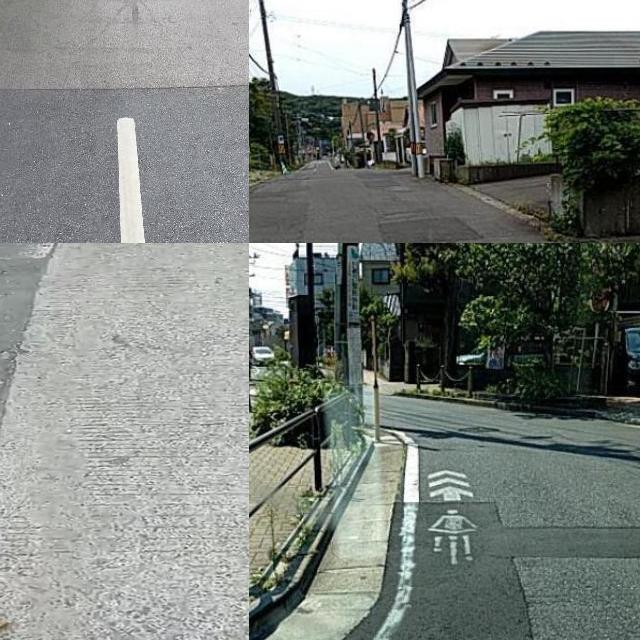Sambungan: (0, 243, 249, 640), (0, 84, 249, 243), (352, 500, 534, 640), (500, 525, 640, 562)
